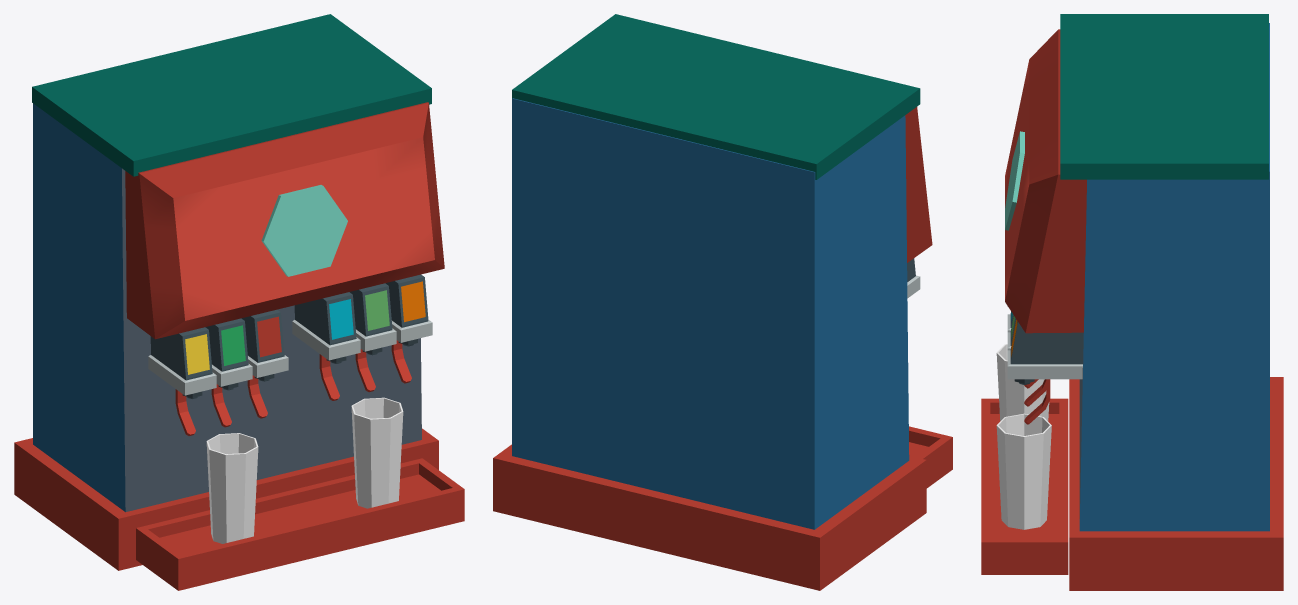
The model's file is Drink_Machine_2_lv5.fbx.
3 views of the same model, side by side, from view 1: azimuth 30°, elevation 25°; view 2: azimuth 150°, elevation 25°; view 3: azimuth 270°, elevation 25° (orthographic). The views are drawn at different scales.
Parts seen in each view (by area): view 1: Drink_Machine_2_lv5; view 2: Drink_Machine_2_lv5; view 3: Drink_Machine_2_lv5.
Boxes of the visible parts, <box> form: Drink_Machine_2_lv5: <box>14,14,464,590</box>; Drink_Machine_2_lv5: <box>493,14,952,590</box>; Drink_Machine_2_lv5: <box>981,14,1283,590</box>.
Size of the model in its own units: 113 by 138 by 89.8.
